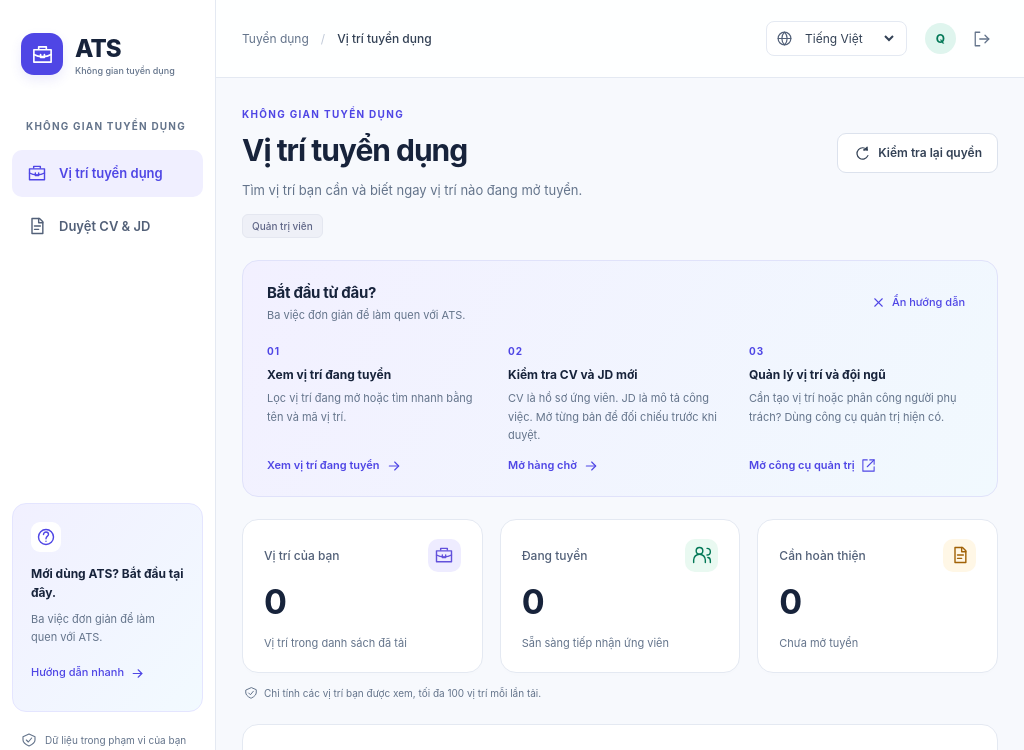
Test: switching languages preserves the actual review kind and does not refetch scope
Click the button "Duyệt CV & JD" at (108, 226), box [12, 203, 203, 249]
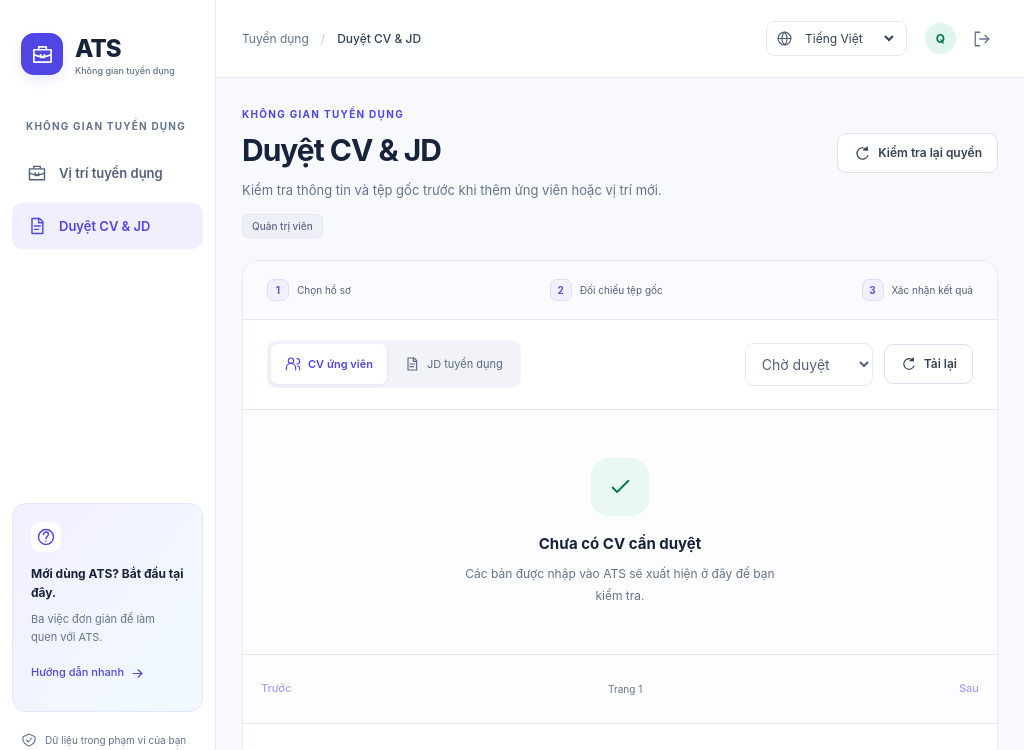
Click the button "JD tuyển dụng" at (453, 364), box [390, 344, 517, 384]
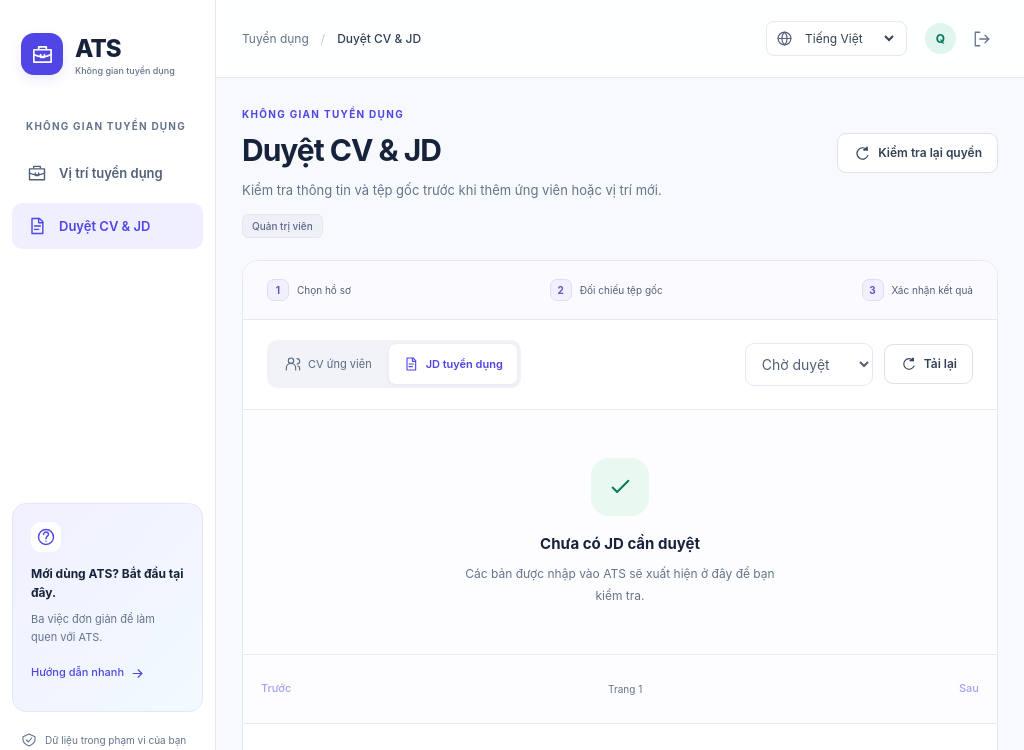
Expected: the heading "Chưa có JD cần duyệt" is shown, [540, 533, 700, 555]
Select "English" in the dropdown named "Ngôn ngữ / Language" at (848, 38), box [799, 27, 897, 50]
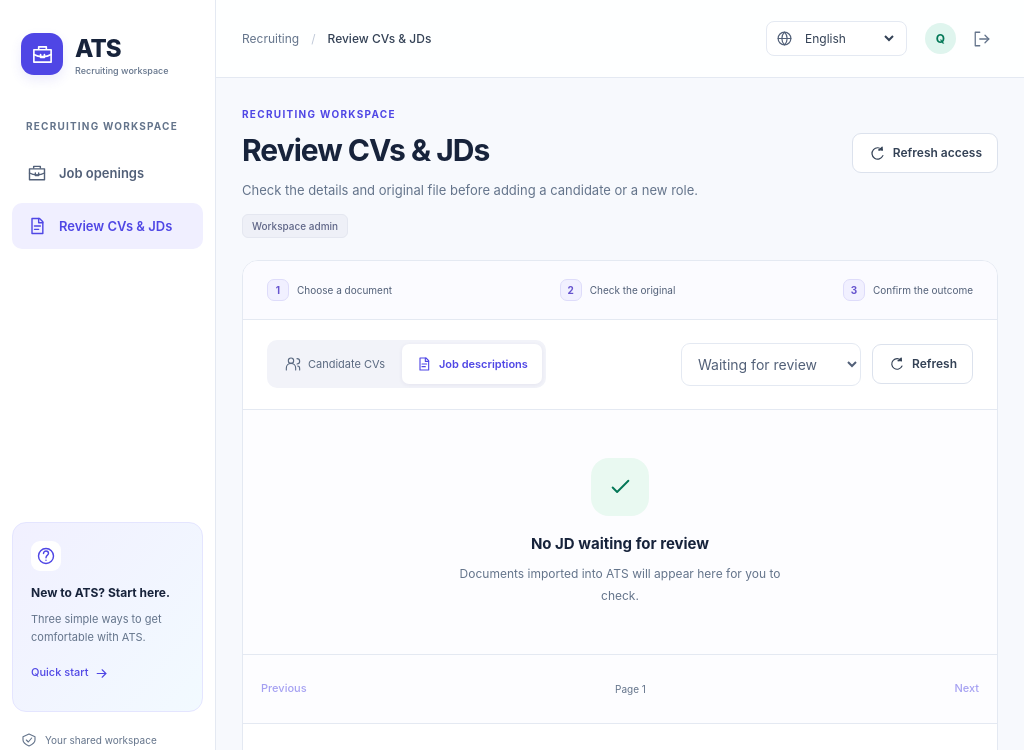
Expected: the dropdown named "Review status" is enabled, [681, 343, 861, 386]
Expected: the heading "No JD waiting for review" is shown, [531, 533, 709, 555]
